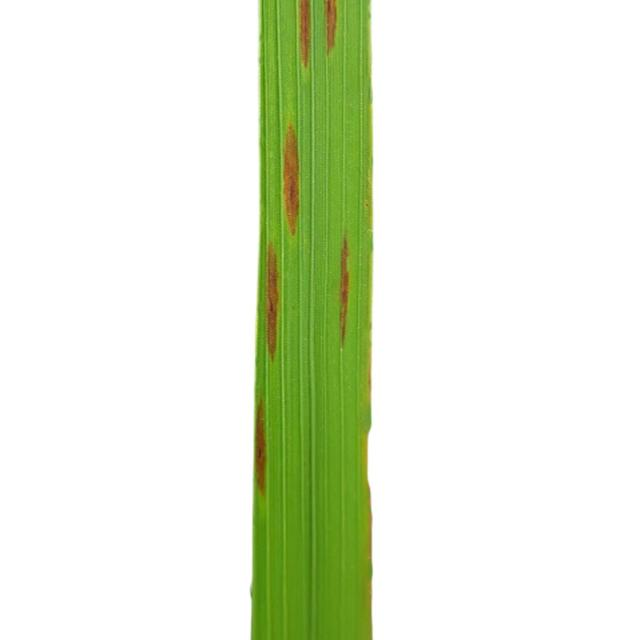Narrow brown: (228, 0, 424, 640)
